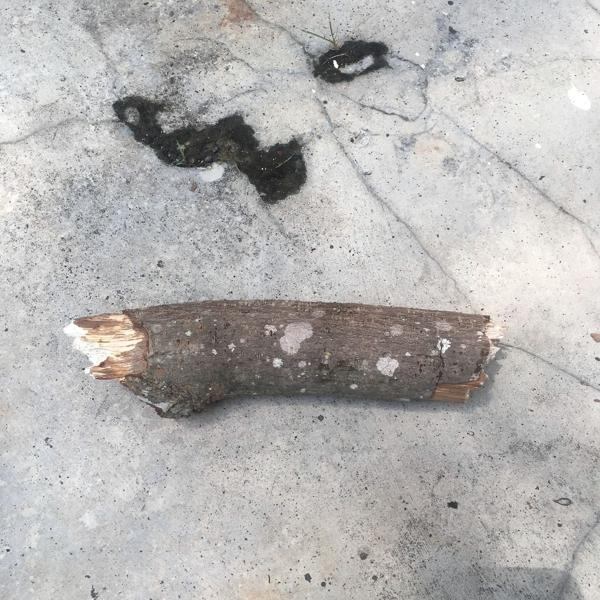Organik: (56, 286, 540, 443)
